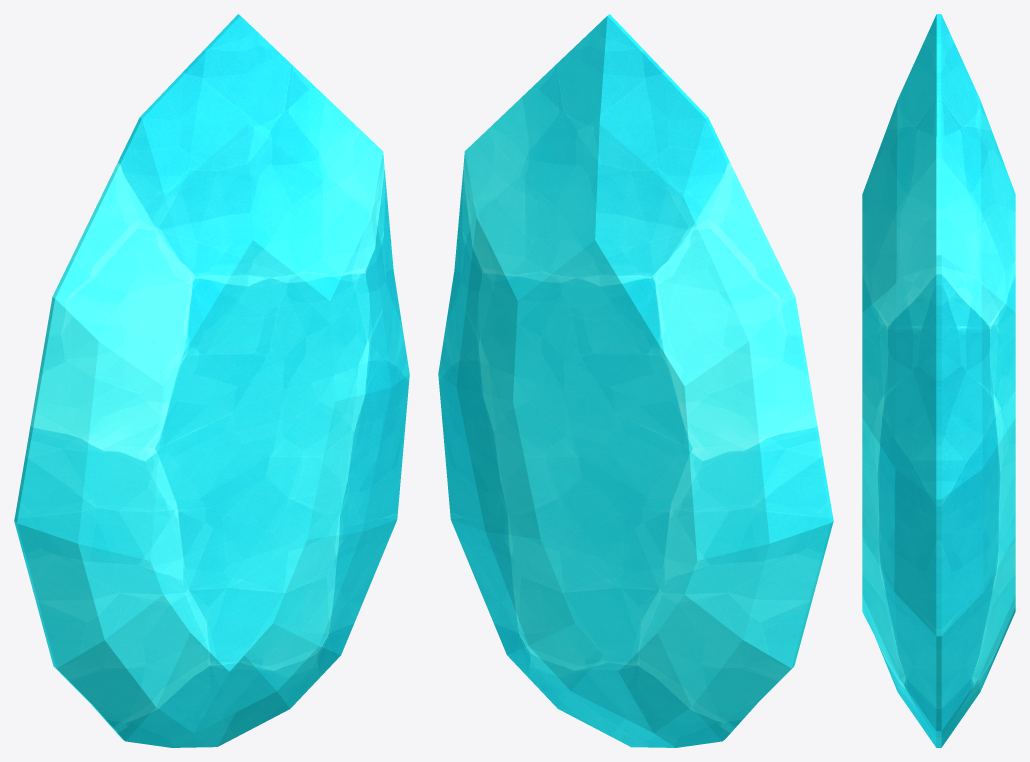
The model's file is Item_Energy_Crystall.glb.
The picture shows the model from 3 angles, left to right: view 1: azimuth 30°, elevation 25°; view 2: azimuth 150°, elevation 25°; view 3: azimuth 270°, elevation 25°; orthographic projection.
Visible parts, largest first — view 1: Item_Energy_Crystall; view 2: Item_Energy_Crystall; view 3: Item_Energy_Crystall.
Part boxes in pixels (left/top/right/bottom): Item_Energy_Crystall: left=14, top=14, right=409, bottom=747; Item_Energy_Crystall: left=438, top=14, right=833, bottom=747; Item_Energy_Crystall: left=862, top=14, right=1015, bottom=747.
Size of the model in its own units: 0.3287 by 0.5803 by 0.1104.
Materials: 1 (1 with a texture image).
